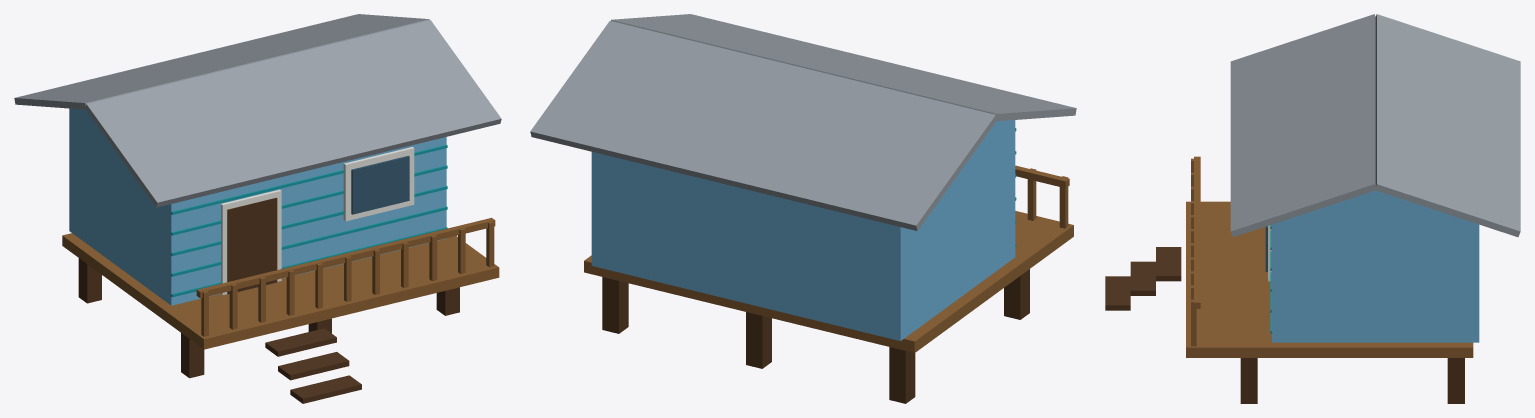
The model's file is Casa de madera pintada.fbx.
3 renders of one model, left to right at view 1: azimuth 30°, elevation 25°; view 2: azimuth 150°, elevation 25°; view 3: azimuth 270°, elevation 25°, orthographic. The views are drawn at different scales.
Parts seen in each view (by area): view 1: Casa de madera pintada; view 2: Casa de madera pintada; view 3: Casa de madera pintada.
Boxes of the visible parts, x1,y1,x2,y2 form: Casa de madera pintada: (14,14,501,403); Casa de madera pintada: (530,14,1076,403); Casa de madera pintada: (1105,14,1520,403).
Size of the model in its own units: 3.5 by 2.28 by 3.61.
